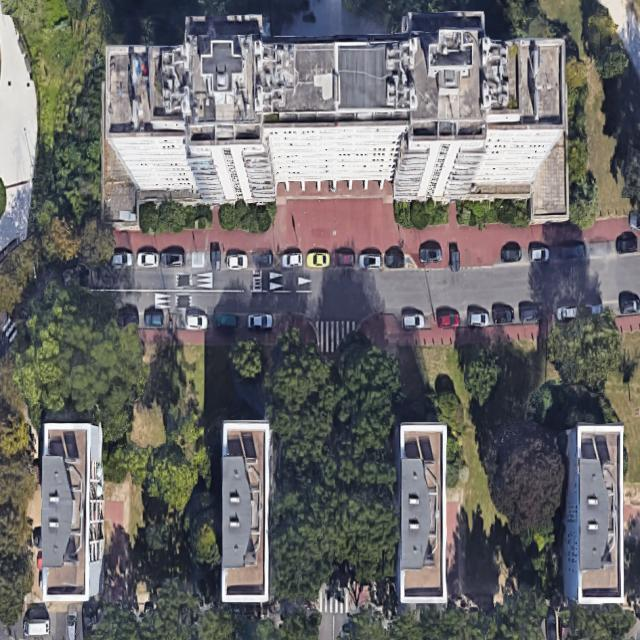immeuble: (97, 7, 570, 232), (37, 424, 106, 604), (562, 423, 624, 603), (220, 419, 271, 604), (395, 423, 446, 603)
